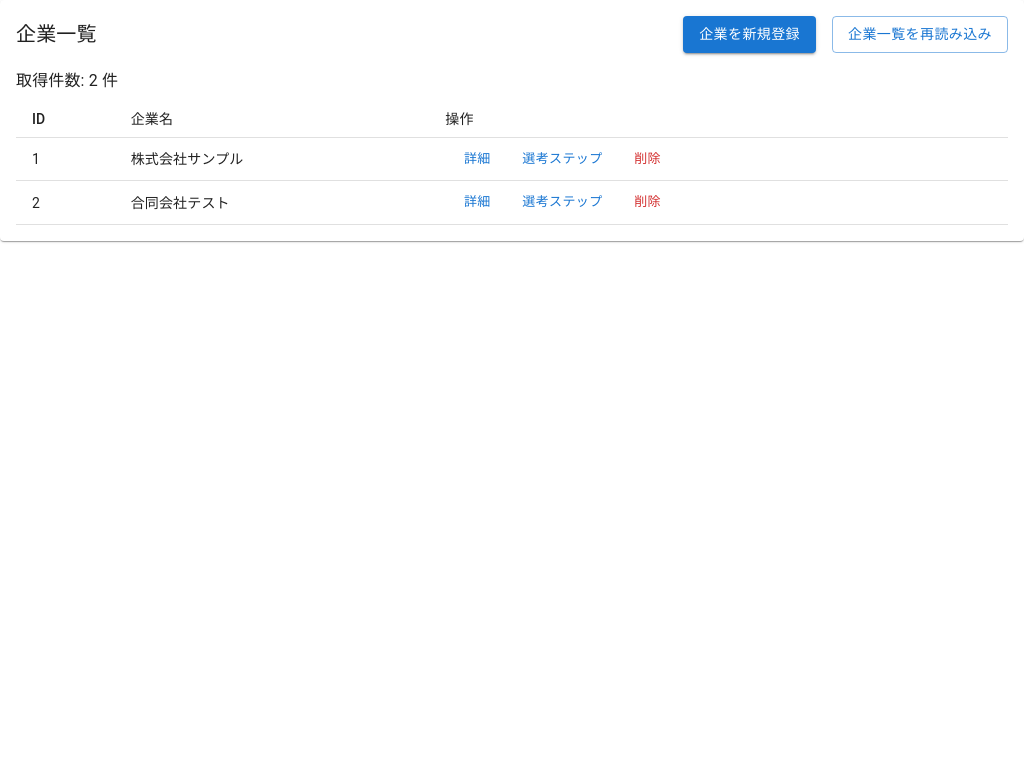
Test: 企業詳細 › 別の企業の詳細を開き直すと、前回の企業ではなく開いた企業の内容を表示する
Check: the text "取得件数: 2 件" is shown, box left=16, top=70, right=118, bottom=90
Click the button with aria-label "企業「合同会社テスト」の詳細": point(477, 203) left=445, top=187, right=509, bottom=218
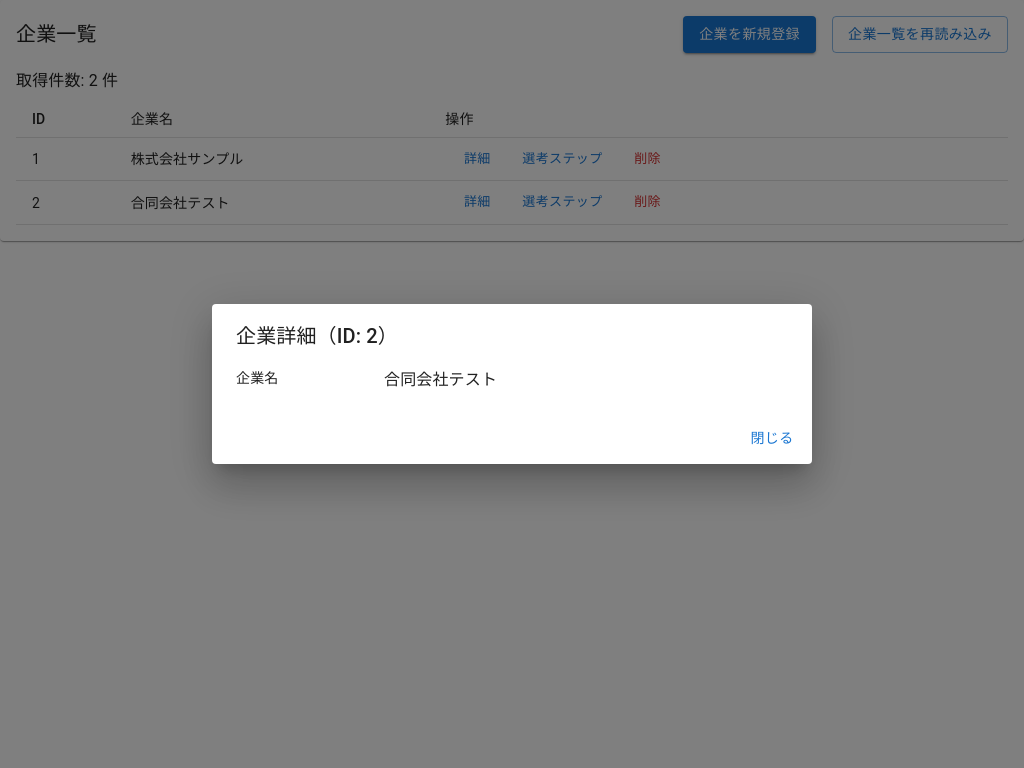
Check: the text "合同会社テスト" is shown, box left=384, top=368, right=497, bottom=392
Click the button "閉じる": point(772, 438) left=740, top=420, right=804, bottom=456
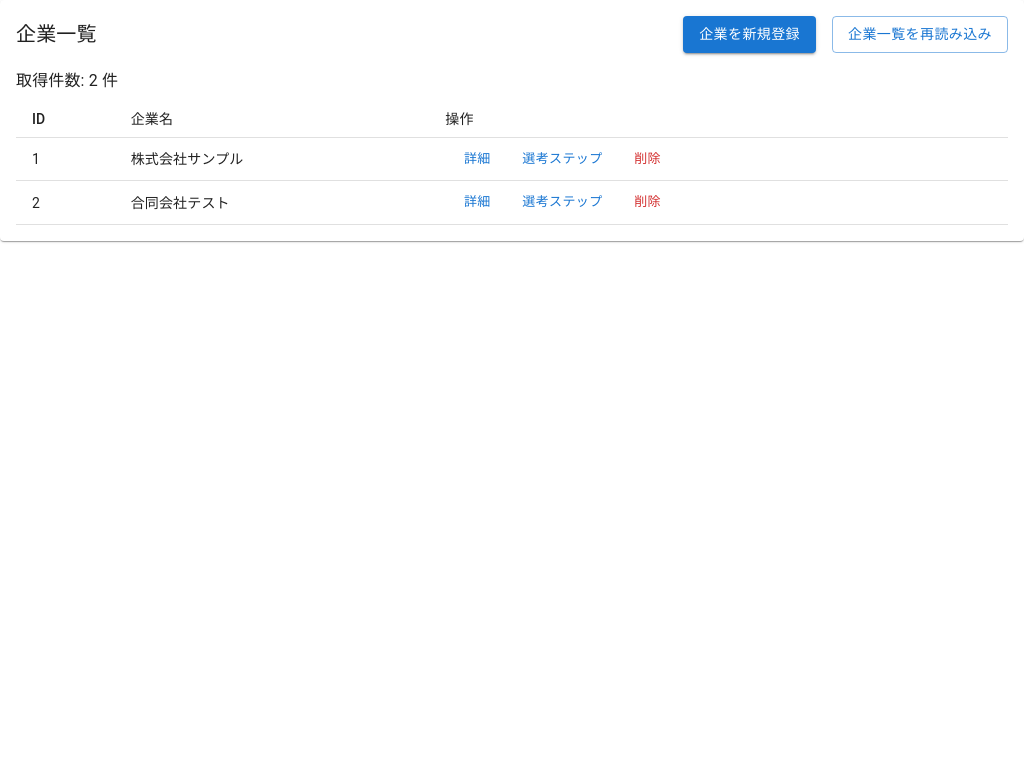
Check: the dialog is gone
Click the button with aria-label "企業「株式会社サンプル」の詳細": point(477, 159) left=445, top=144, right=509, bottom=174
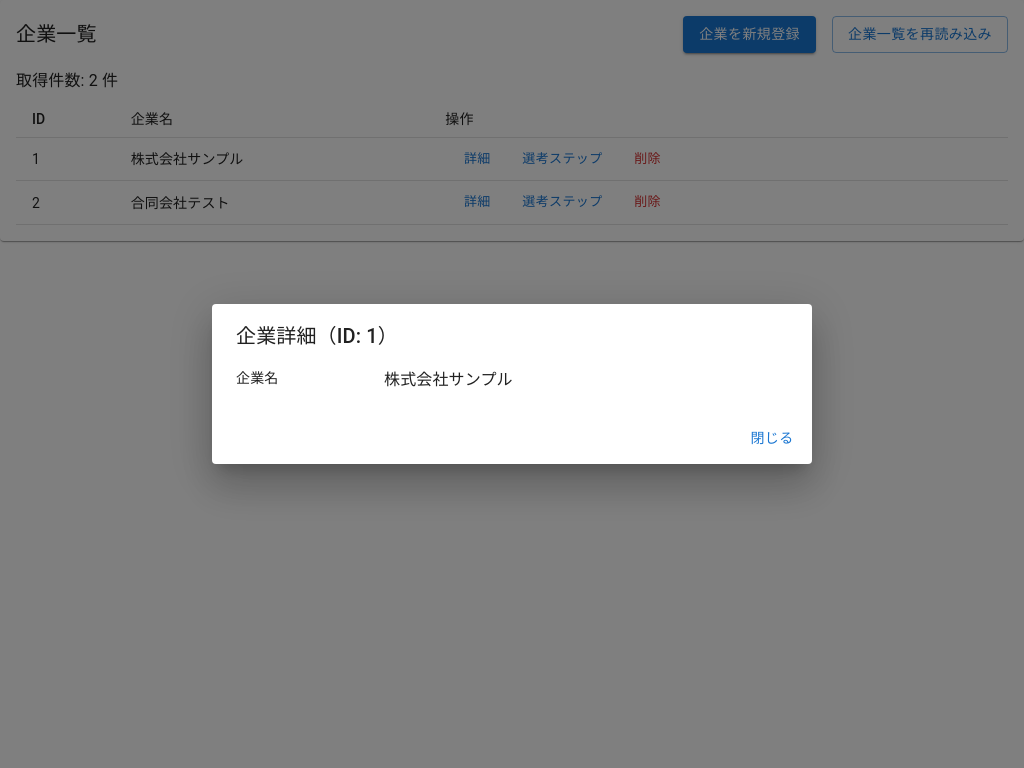
Check: the text "株式会社サンプル" is shown, box left=384, top=368, right=513, bottom=392
